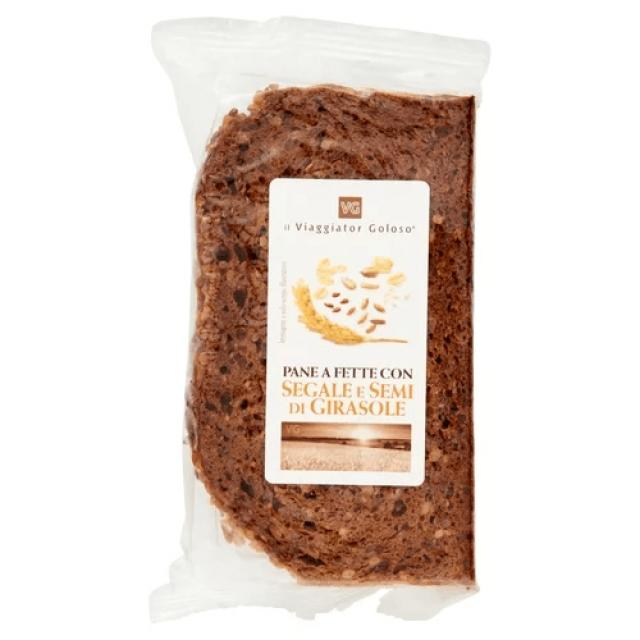bread: (148, 14, 493, 617)
